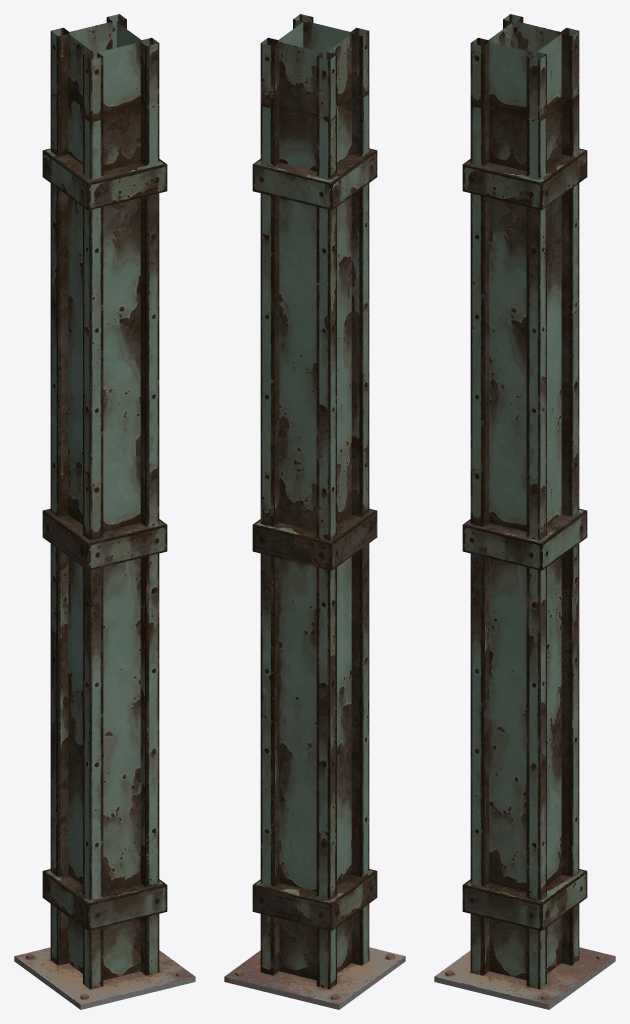
The model's file is SM_Pillar_01_A.fbx.
3 views of the same model, side by side, from view 1: azimuth 30°, elevation 25°; view 2: azimuth 150°, elevation 25°; view 3: azimuth 330°, elevation 25° (orthographic).
Parts seen in each view (by area): view 1: SM_Pillar_01_A; view 2: SM_Pillar_01_A; view 3: SM_Pillar_01_A.
Boxes of the visible parts, x1=… form: SM_Pillar_01_A: x1=14, y1=14, x2=195, y2=1009; SM_Pillar_01_A: x1=224, y1=14, x2=405, y2=1009; SM_Pillar_01_A: x1=434, y1=14, x2=615, y2=1009.
Size of the model in its own units: 45 by 45 by 350.
1 material, 1 textured.
